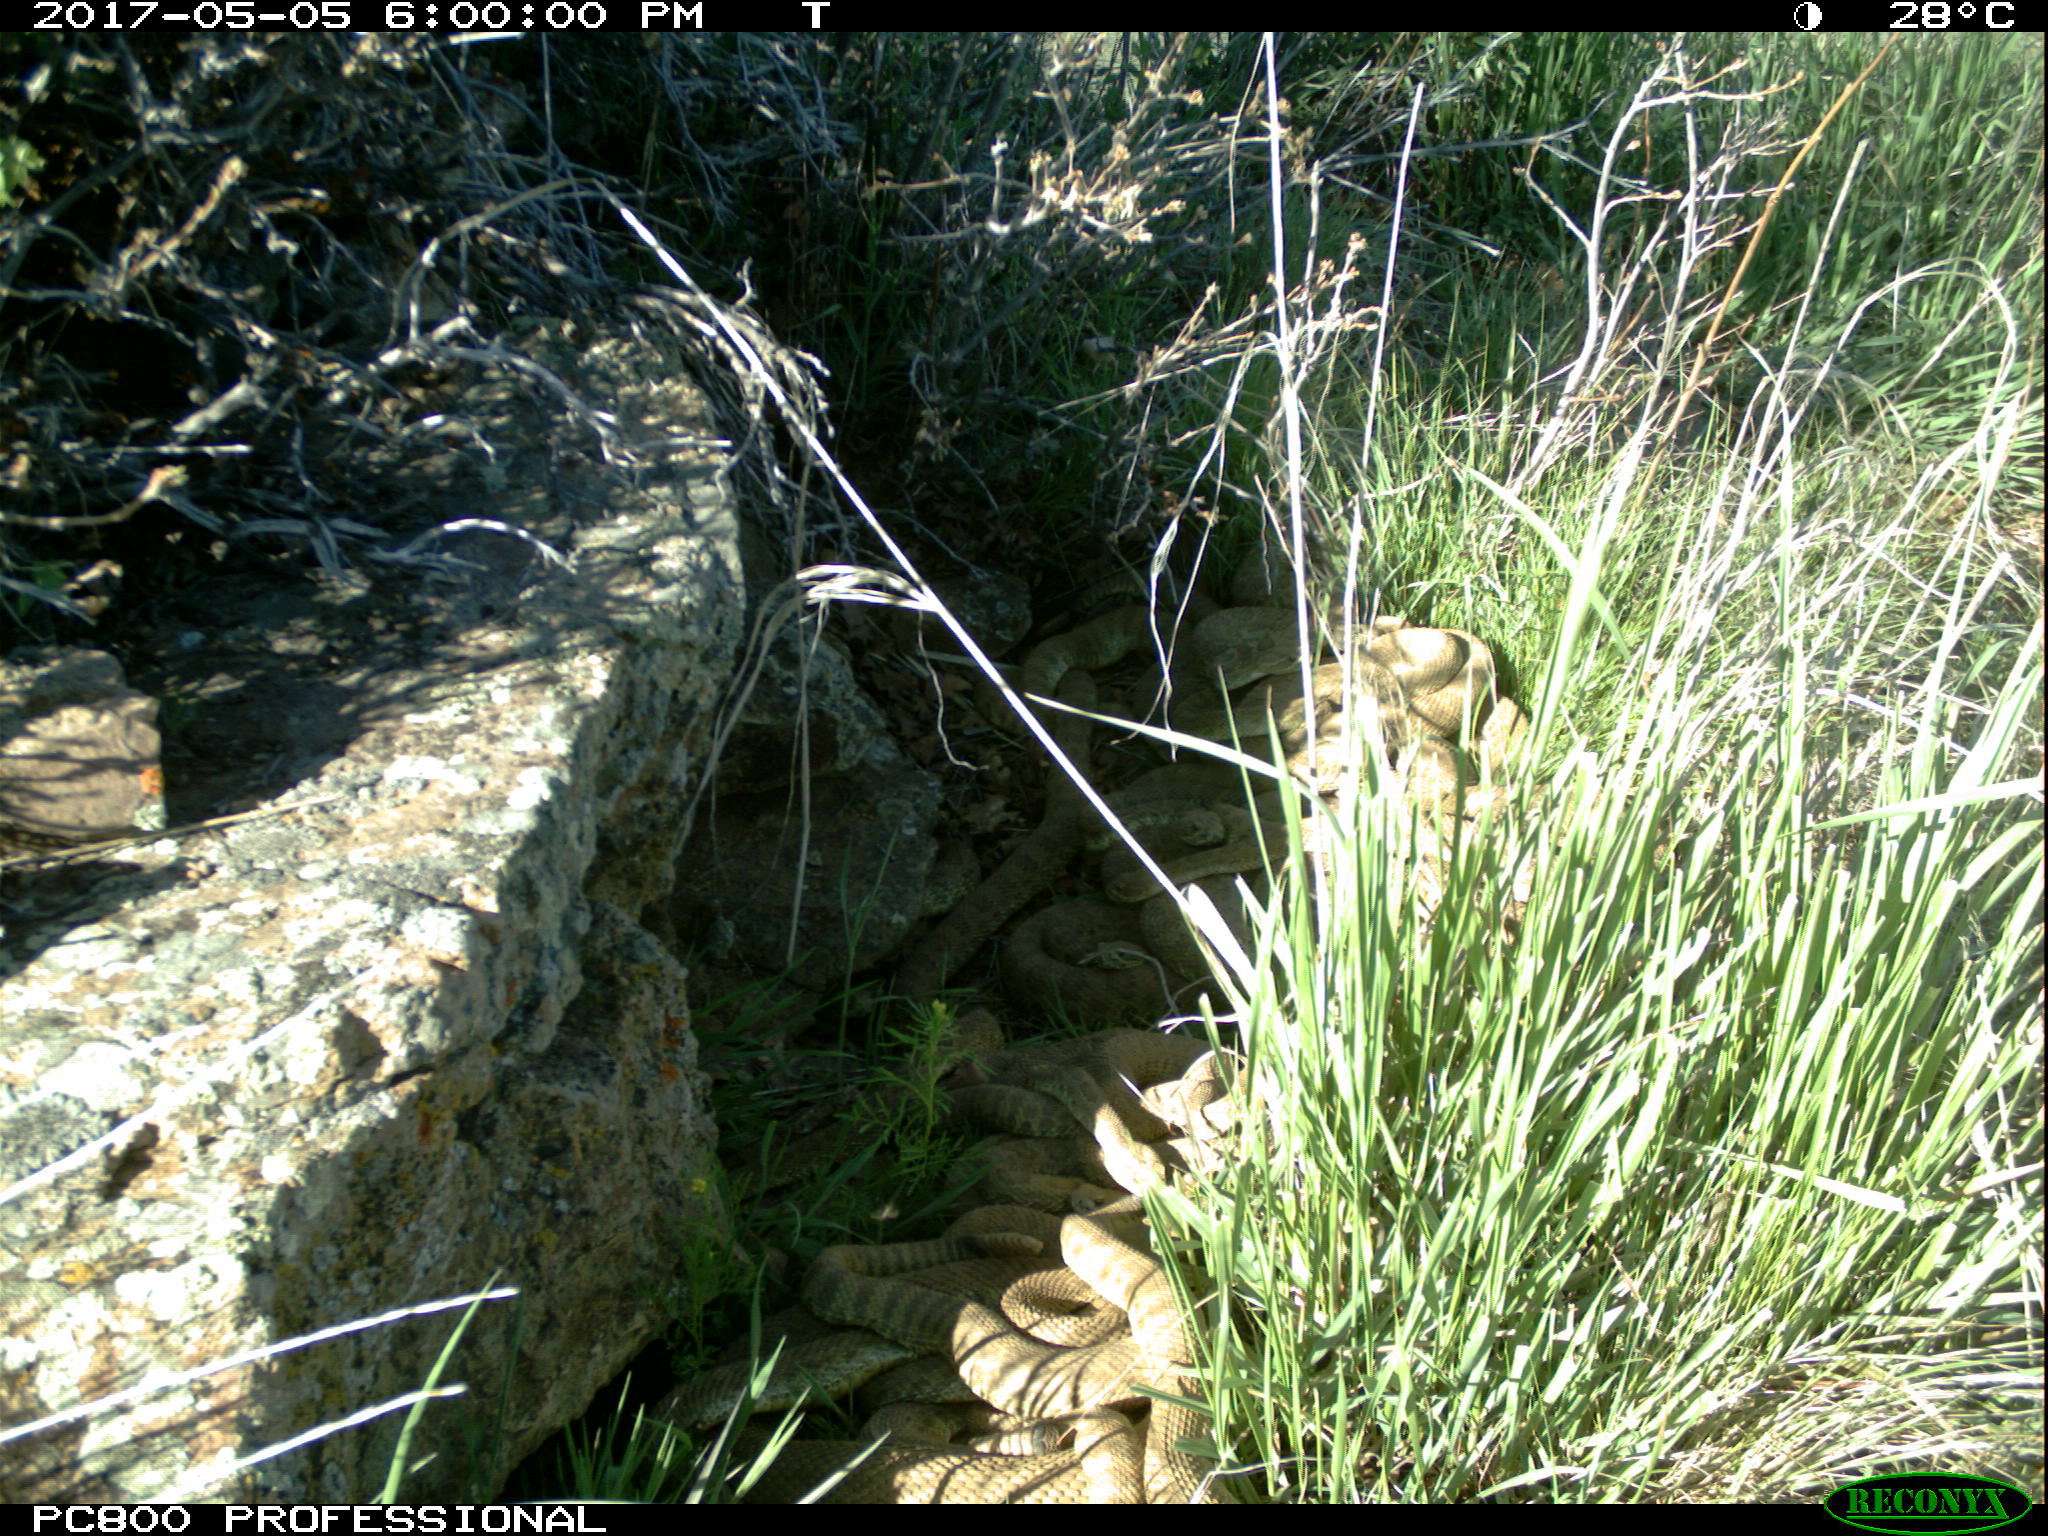snake: (648, 1313, 1258, 1501), (890, 687, 1108, 999), (822, 1158, 1219, 1321), (1214, 624, 1540, 816), (998, 578, 1272, 742), (939, 1033, 1264, 1158), (1101, 770, 1330, 879), (1018, 902, 1222, 1013)
